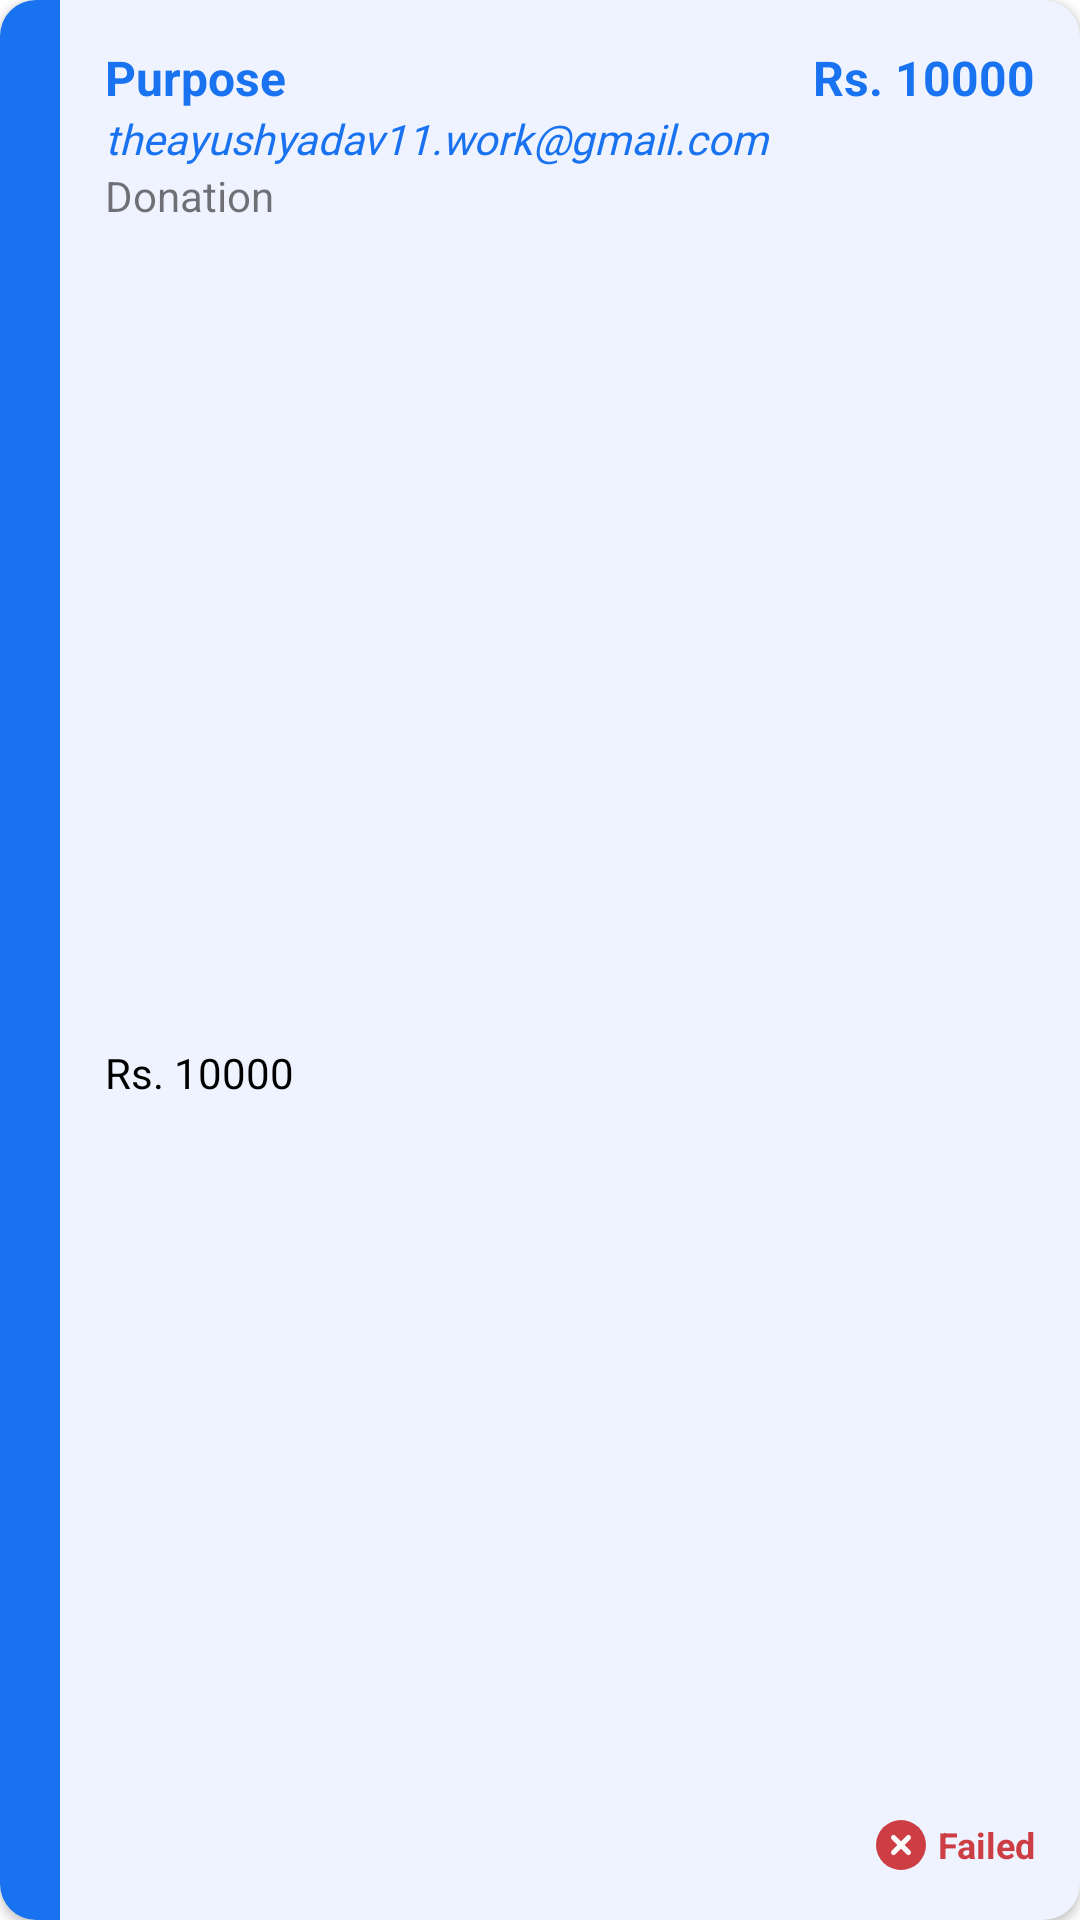

Point at icon controls on the screen. Image size 1080×1920, points as point (x, y).
cross circle: point (901, 1845)
